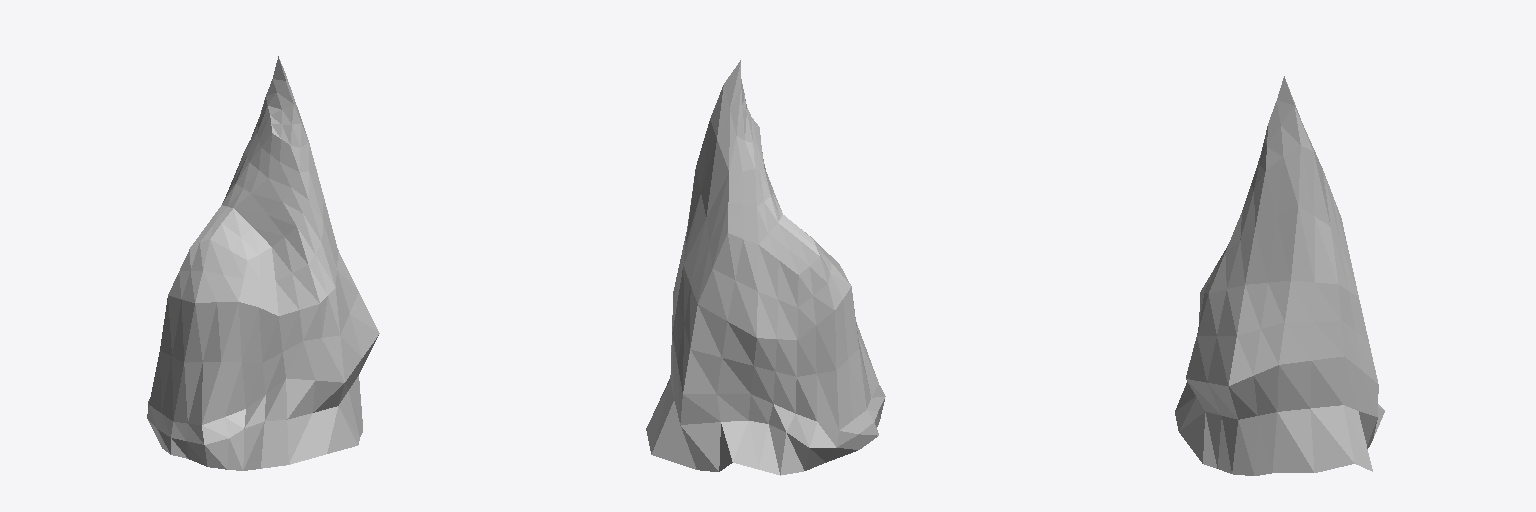
File: Rock2.obj
The picture shows the model from 3 angles: view 1: azimuth 30°, elevation 25°; view 2: azimuth 150°, elevation 25°; view 3: azimuth 270°, elevation 25°; orthographic projection.
Parts seen in each view (by area): view 1: Stein_Stele; view 2: Stein_Stele; view 3: Stein_Stele.
Part boxes in pixels (x1,y1,x2,y2): Stein_Stele: (147, 56, 379, 470); Stein_Stele: (646, 60, 885, 475); Stein_Stele: (1175, 76, 1384, 475).
Bounding box in the file's own units: 1.56 × 2.92 × 1.45.